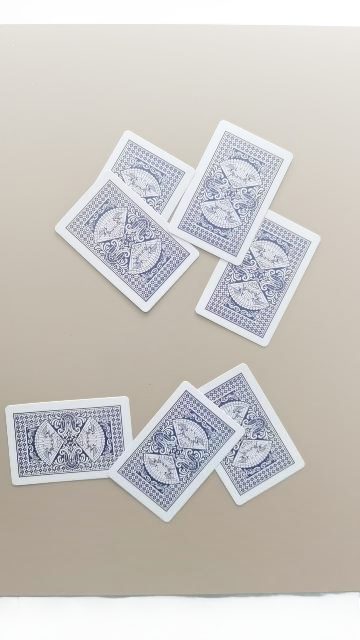card: (55, 171, 199, 311), (109, 381, 244, 521), (170, 121, 292, 265), (195, 211, 320, 346), (200, 364, 304, 505), (6, 398, 131, 485), (101, 130, 195, 220)
